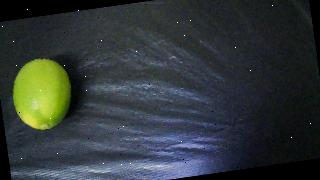LOCAL: (8, 55, 76, 134)
